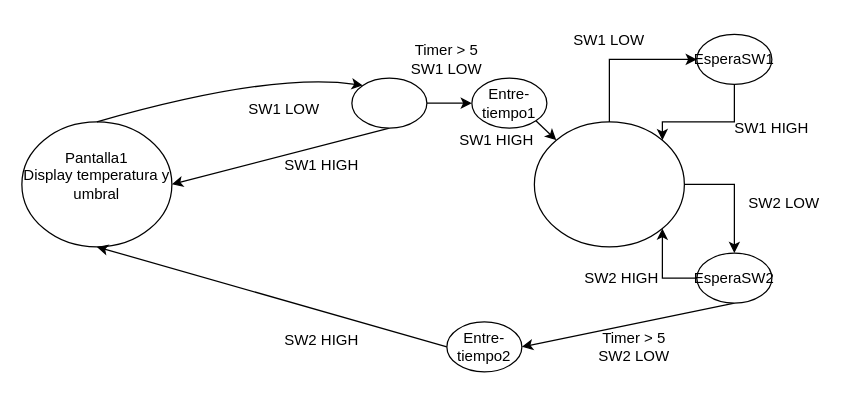
This 856x394 diagram has some shape labels left out. The centre of each missing label's shape, as x and y in pixels:
Espera1: (389,102)
Pantalla2 configuración Umbral: (608,184)
